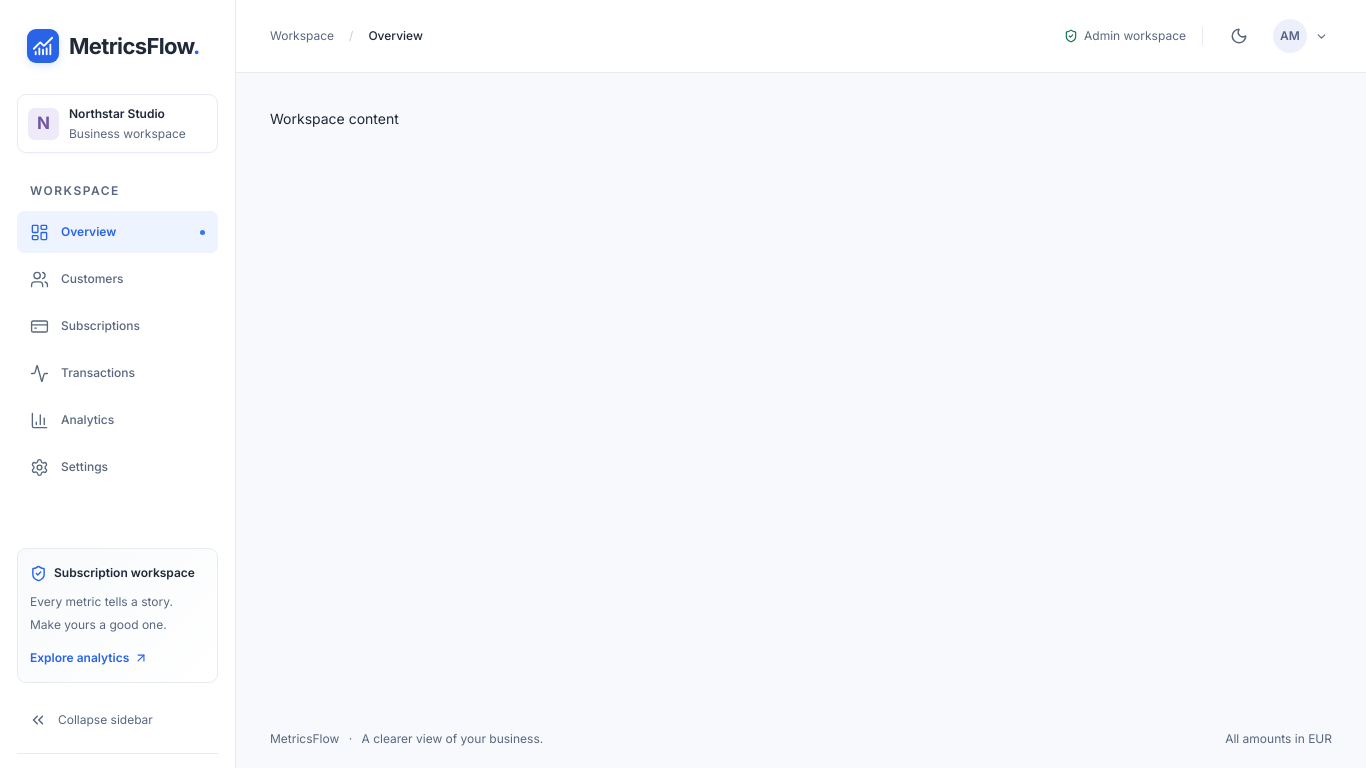
subscription and organization pages › renders the workspace shell and closes the account menu on Escape
Click the button "Collapse sidebar" at x=118, y=720, box [17,702,218,738]
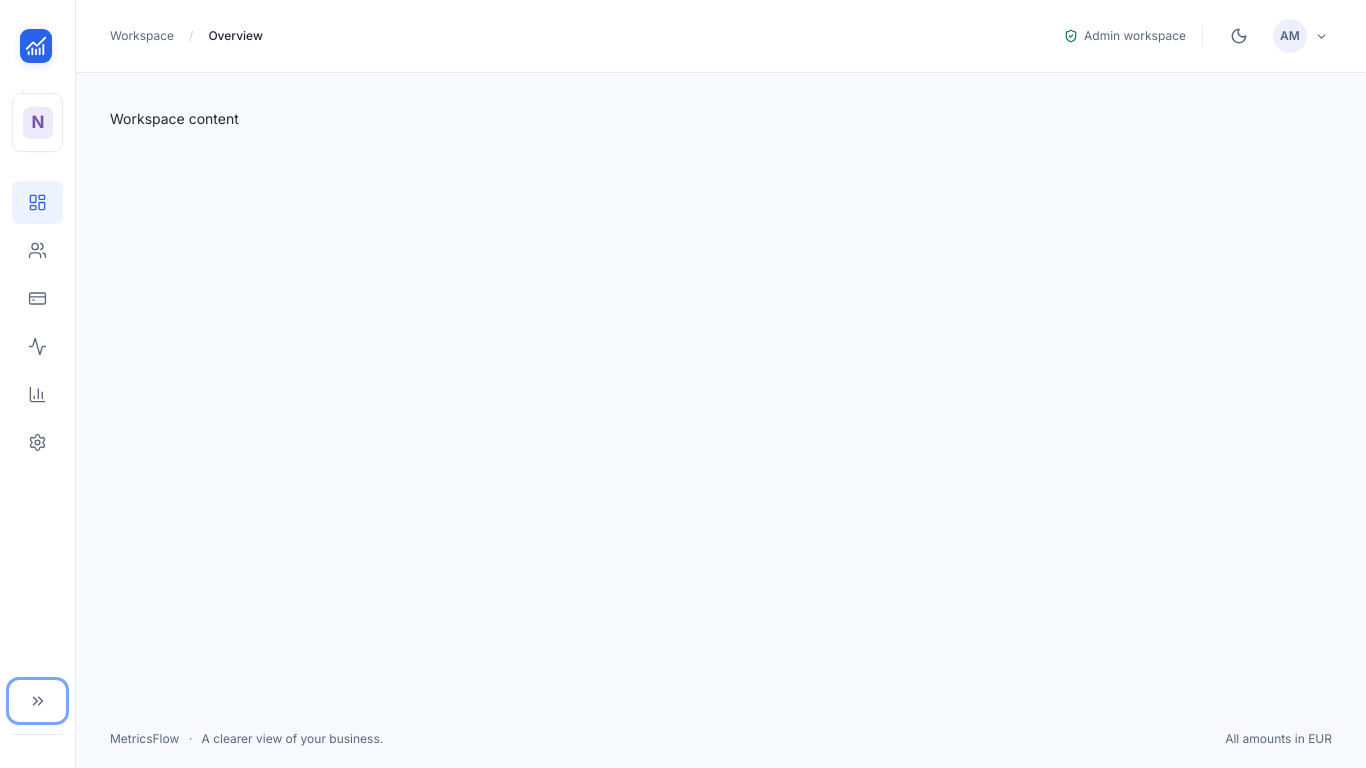
Click the button named "Expand sidebar" at x=38, y=701, box [12,683,63,719]
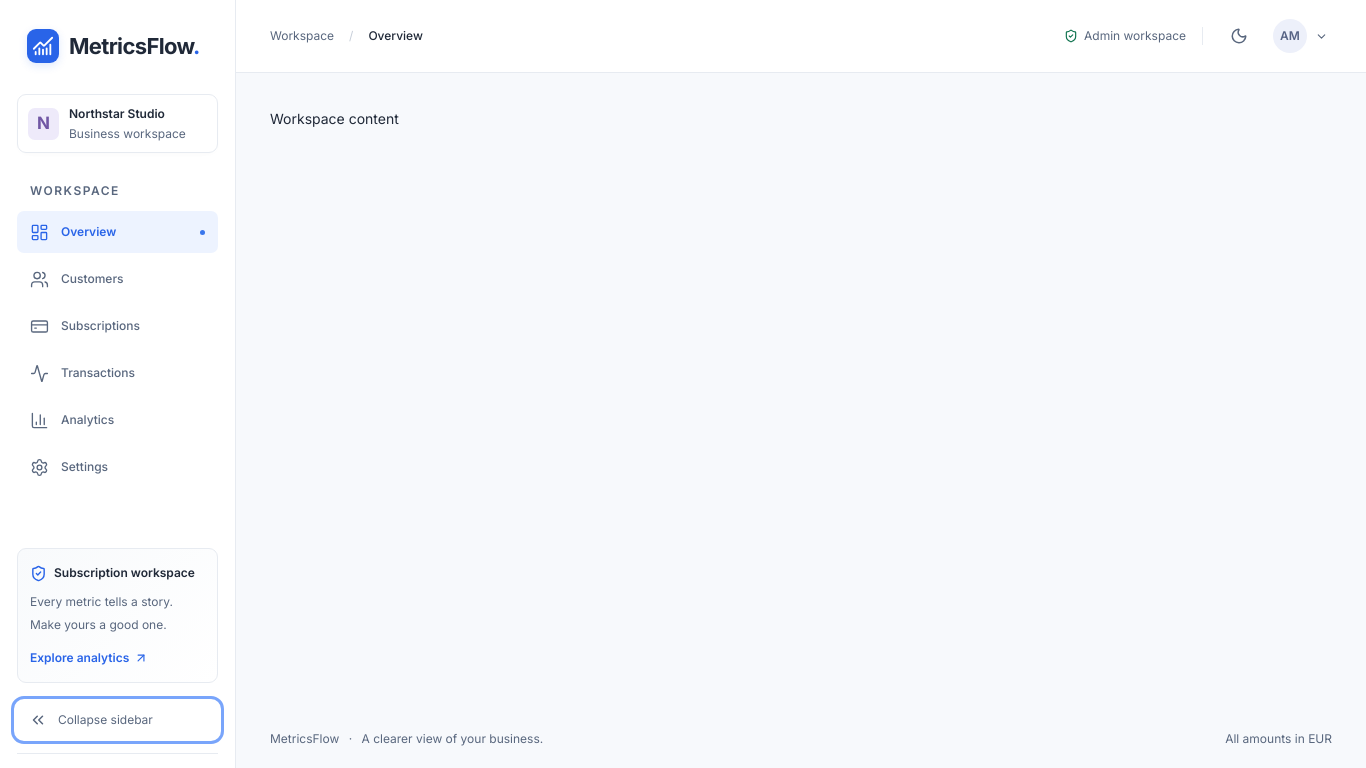
Click the button named "Switch to dark mode" at x=1239, y=36, box [1219,16,1259,56]
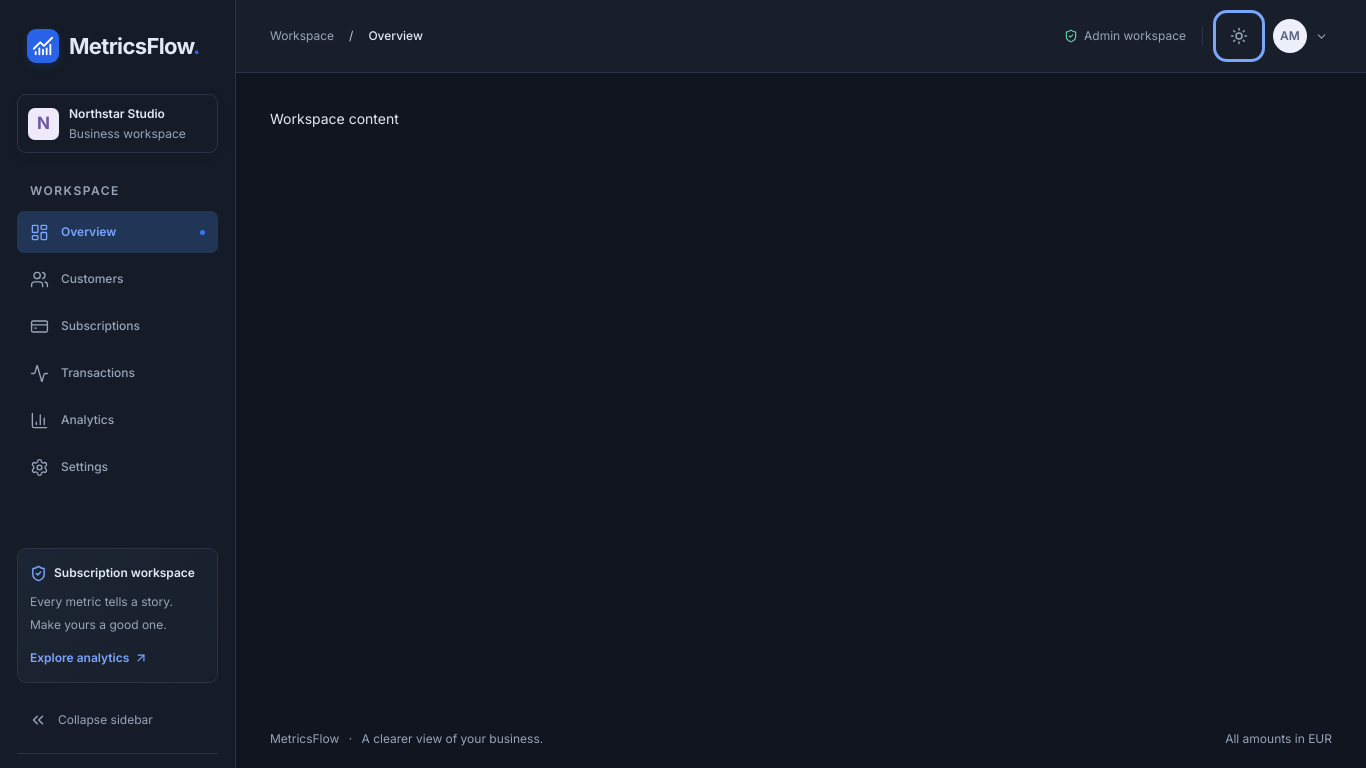
Click the button with aria-label "User menu" at x=1300, y=36, box [1269,16,1332,56]
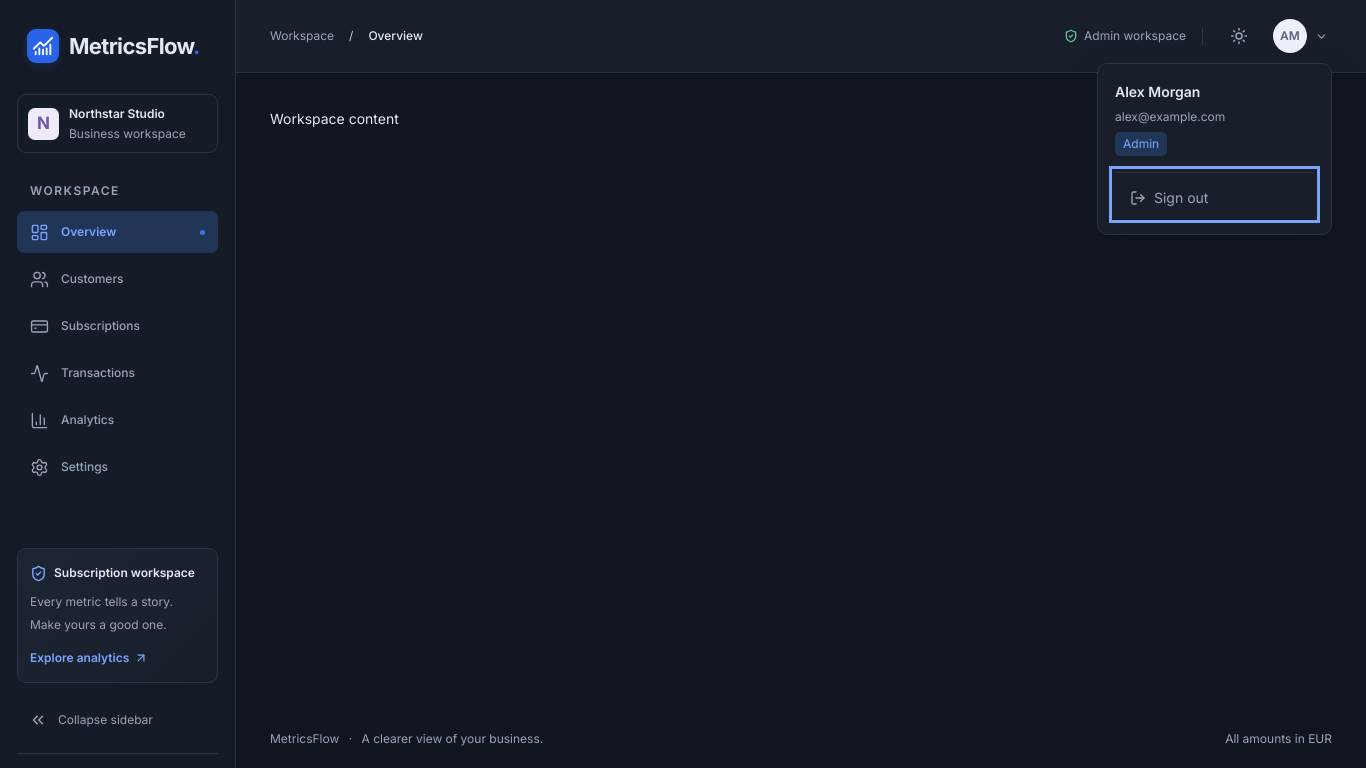
Check: the dialog named "Account menu" is shown, box [1097,63,1332,235]
Press Escape
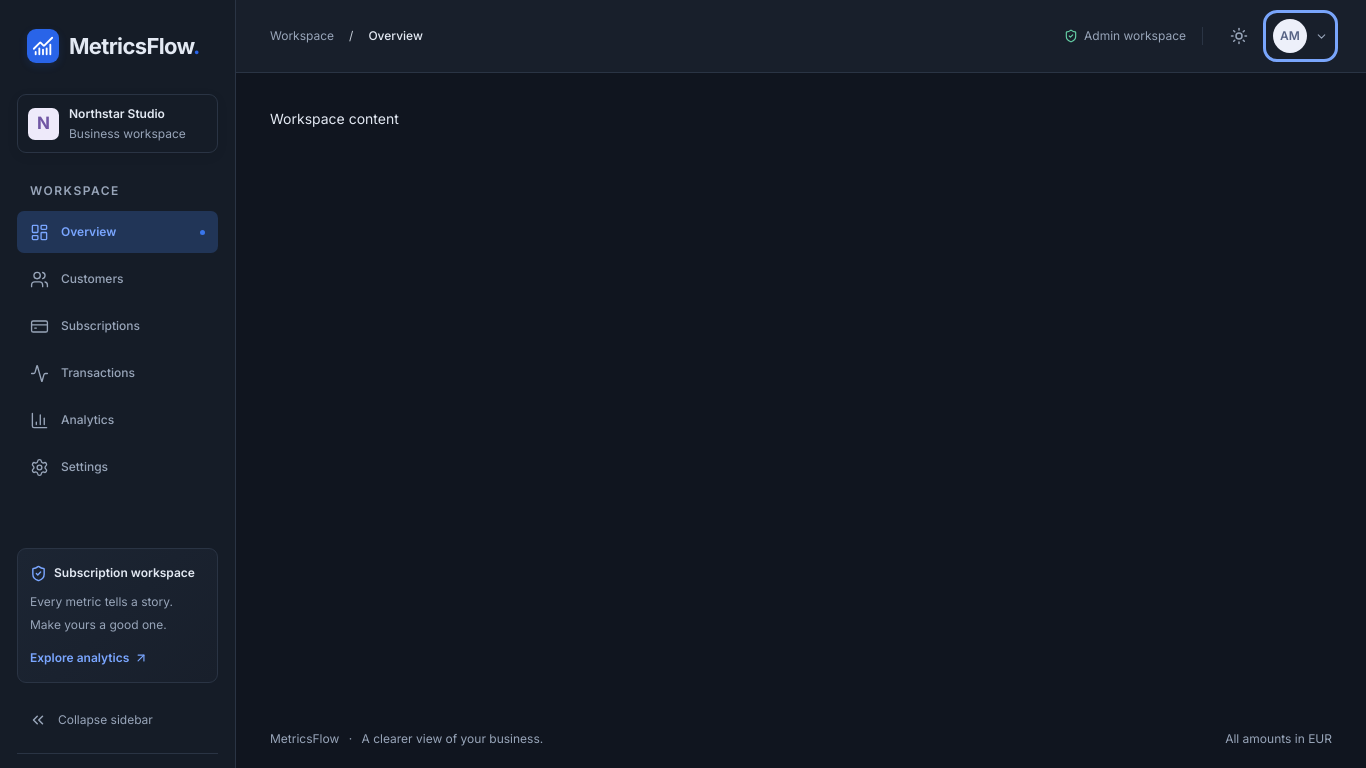
Check: the dialog is gone
